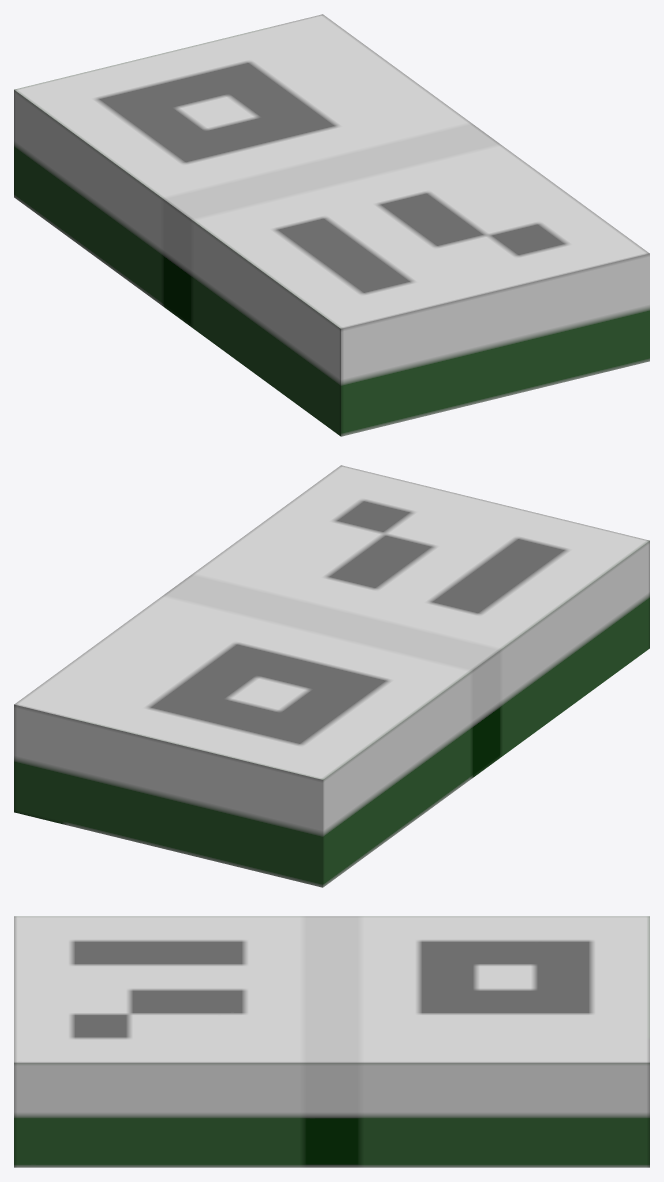
The model's file is GreenOpenBook_8.fbx.
3 views of the same model, one above another, from view 1: azimuth 30°, elevation 25°; view 2: azimuth 150°, elevation 25°; view 3: azimuth 270°, elevation 25° (orthographic). The views are drawn at different scales.
Visible parts, largest first — view 1: GreenOpenBook_8.001; view 2: GreenOpenBook_8.001; view 3: GreenOpenBook_8.001.
Boxes of the visible parts, x1=… form: GreenOpenBook_8.001: x1=14, y1=14, x2=649, y2=436; GreenOpenBook_8.001: x1=14, y1=465, x2=649, y2=887; GreenOpenBook_8.001: x1=14, y1=916, x2=649, y2=1167.
Bounding box in the file's own units: 0.6 × 0.2 × 1.1.
Materials: 1 (1 with a texture image).
